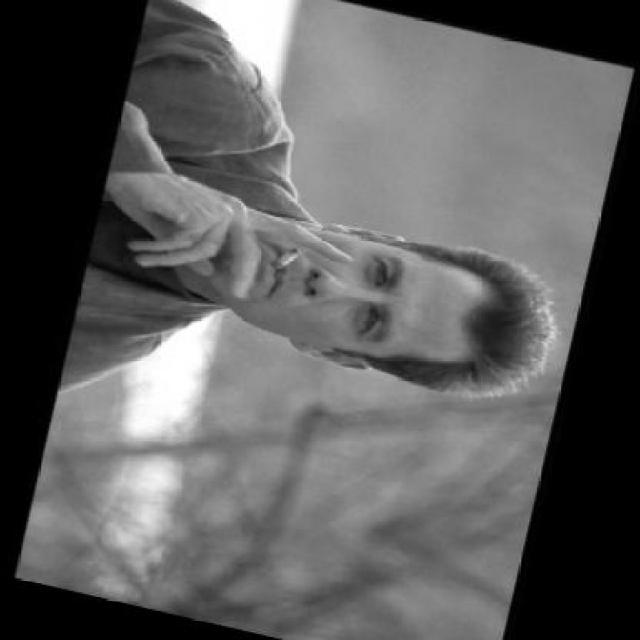smoke: (269, 242, 303, 276)
